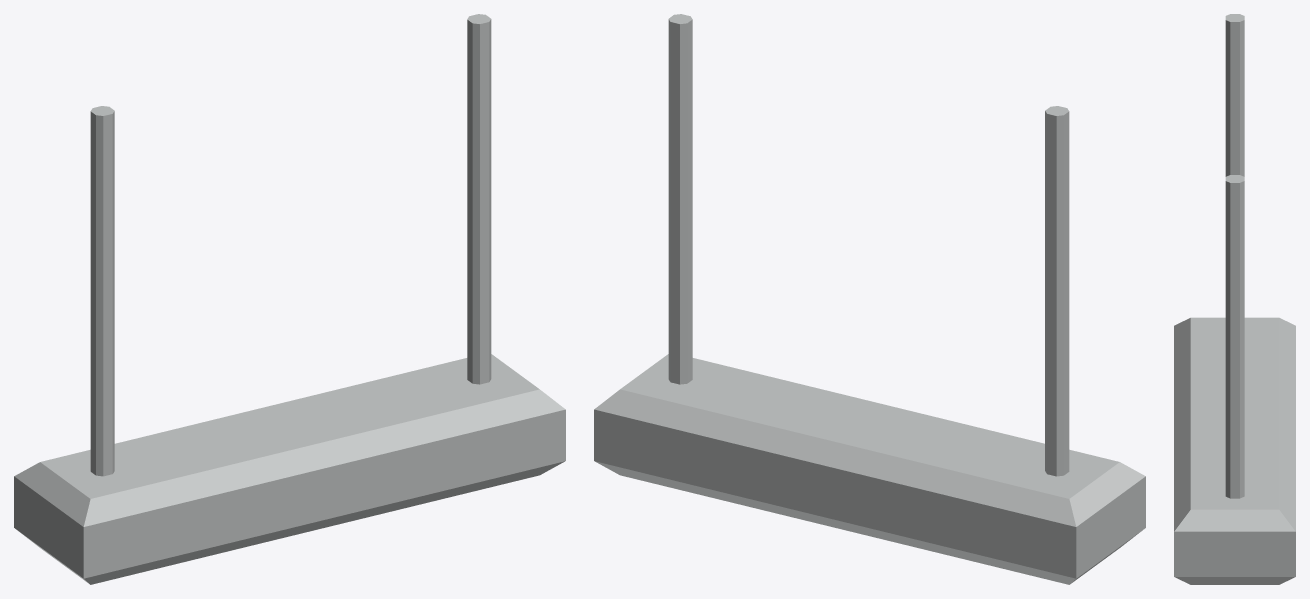
The model's file is lighty.fbx.
3 views of the same model, side by side, from view 1: azimuth 30°, elevation 25°; view 2: azimuth 150°, elevation 25°; view 3: azimuth 270°, elevation 25° (orthographic). The views are drawn at different scales.
Parts seen in each view (by area): view 1: pCube622, pCube621, pCube620; view 2: pCube622, pCube621, pCube620; view 3: pCube622, pCube620, pCube621.
Boxes of the visible parts, box(x1,y1,x2,y2) form: pCube622: box(14, 354, 565, 584); pCube621: box(90, 106, 114, 476); pCube620: box(467, 14, 491, 384); pCube622: box(594, 354, 1145, 584); pCube621: box(1045, 106, 1069, 476); pCube620: box(668, 14, 692, 384); pCube622: box(1174, 317, 1295, 584); pCube620: box(1225, 175, 1244, 498); pCube621: box(1225, 14, 1244, 176).
Bounding box in the file's own units: 1.65 × 1.46 × 0.4129.
